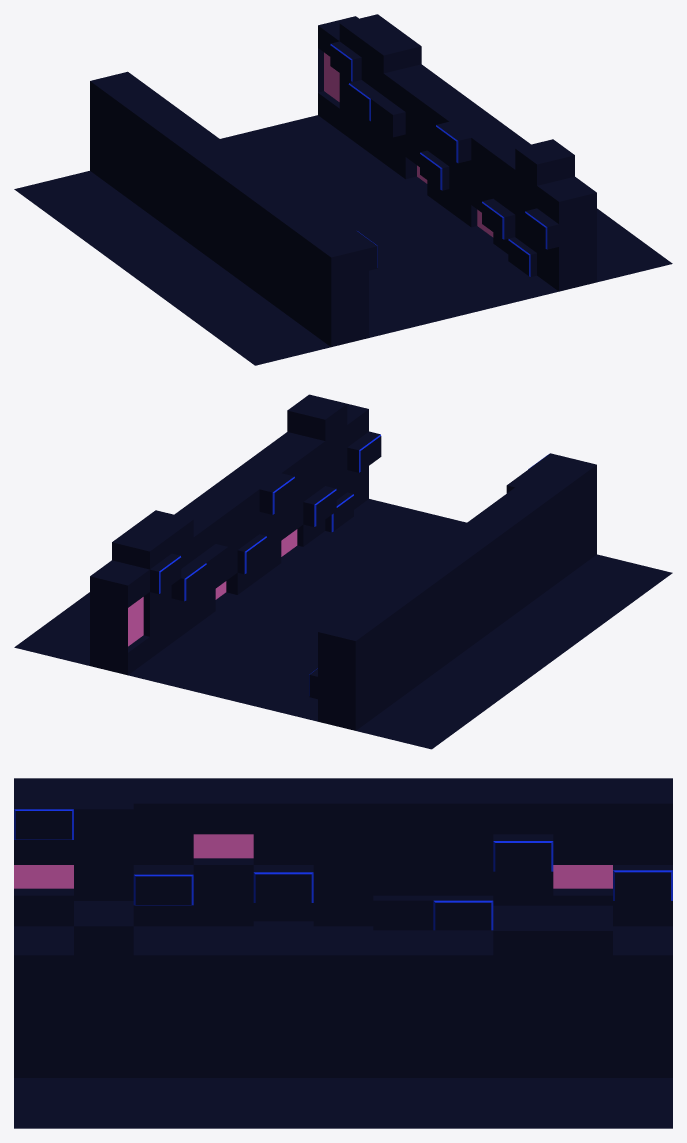
3 views of the same model, one above another, from view 1: azimuth 30°, elevation 25°; view 2: azimuth 150°, elevation 25°; view 3: azimuth 270°, elevation 25° (orthographic). The views are drawn at different scales.
Parts seen in each view (by area): view 1: terrain; view 2: terrain; view 3: terrain.
Boxes of the visible parts, <box> form: terrain: <box>14,14,672,365</box>; terrain: <box>14,394,672,749</box>; terrain: <box>14,778,672,1128</box>.
Bounding box in the file's own units: 10000 × 2541 × 10000.
